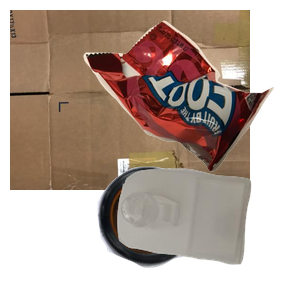cardboard: (10, 10, 250, 190)
glass: (95, 164, 286, 300)
plastic: (115, 166, 300, 300)
trash: (81, 18, 300, 182)
